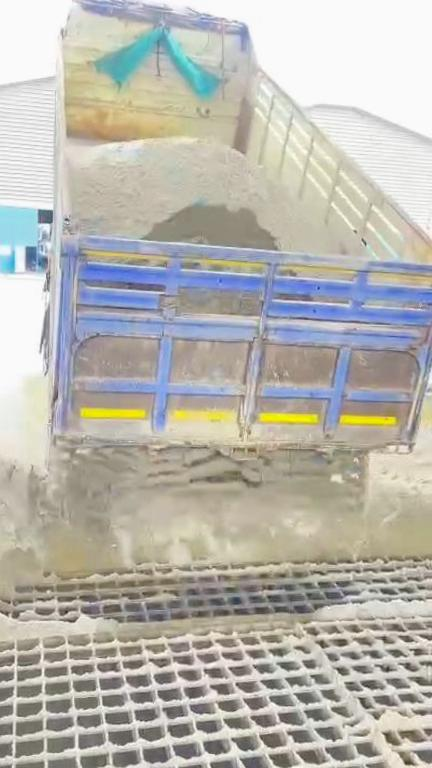sand: (0, 428, 430, 648), (68, 139, 355, 253), (312, 588, 430, 620), (377, 709, 429, 732)
